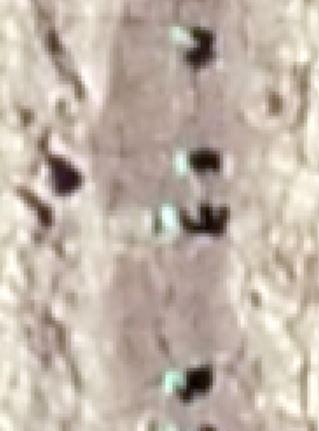cotton: (163, 203, 178, 228), (175, 149, 188, 175), (166, 371, 184, 389), (171, 26, 189, 40)
